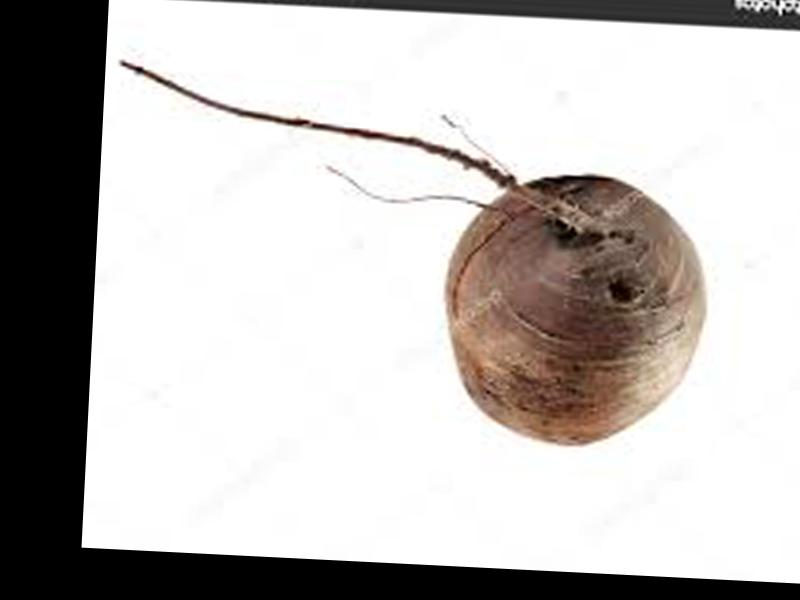Beet: (100, 59, 714, 448)
